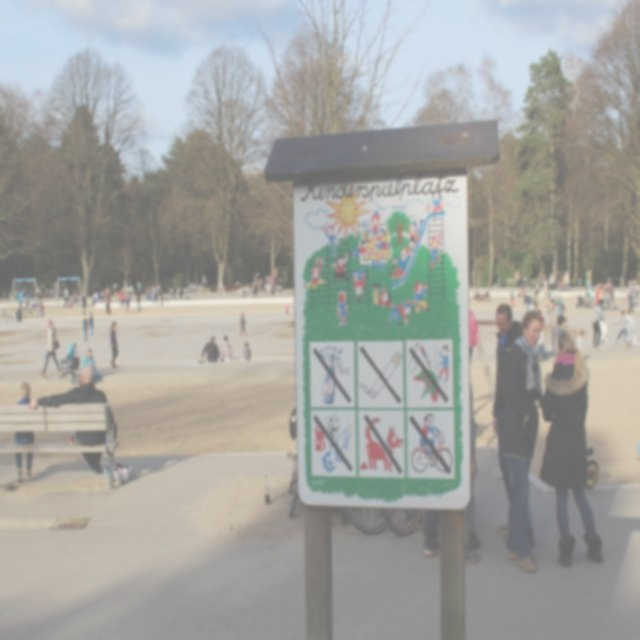pessoa: (303, 190, 446, 326), (538, 331, 605, 570), (501, 310, 544, 572), (27, 365, 115, 475), (492, 303, 523, 541), (464, 309, 482, 552), (504, 464, 536, 550), (13, 382, 36, 482), (38, 318, 63, 378), (418, 413, 443, 468), (422, 510, 441, 561), (81, 348, 102, 384), (590, 298, 604, 351), (548, 298, 560, 358), (437, 341, 451, 386), (200, 335, 220, 363), (614, 310, 628, 346), (110, 321, 120, 368), (325, 414, 341, 441), (536, 325, 546, 362), (625, 308, 634, 348), (220, 335, 232, 363), (460, 548, 480, 564), (598, 315, 608, 345), (594, 284, 604, 312), (607, 280, 616, 310), (557, 308, 568, 332), (238, 313, 248, 337), (627, 279, 634, 313), (586, 286, 596, 308), (556, 308, 568, 326), (598, 281, 605, 310), (82, 313, 89, 342), (536, 308, 545, 328), (242, 342, 251, 362), (51, 280, 60, 300), (576, 330, 584, 352), (585, 278, 593, 300), (524, 290, 532, 312), (81, 292, 88, 317), (104, 288, 110, 316), (88, 312, 94, 337), (604, 282, 610, 306), (477, 290, 490, 301), (200, 274, 207, 294), (105, 296, 112, 316), (151, 284, 157, 307), (64, 286, 70, 309), (556, 296, 564, 312), (564, 270, 570, 291), (18, 290, 24, 311), (558, 272, 565, 290), (576, 294, 584, 309), (549, 272, 555, 292), (514, 268, 520, 288), (190, 279, 198, 294), (530, 286, 536, 305), (634, 277, 639, 299), (15, 307, 22, 322), (124, 296, 130, 313), (256, 272, 261, 292), (584, 292, 590, 308), (586, 268, 592, 284), (252, 282, 258, 298), (136, 288, 140, 312), (509, 289, 514, 307), (555, 270, 559, 292), (158, 284, 162, 306), (270, 284, 276, 298), (22, 286, 28, 300), (112, 282, 118, 296), (544, 278, 548, 298), (535, 280, 540, 296), (172, 284, 177, 300), (119, 292, 124, 308), (539, 272, 544, 288), (624, 285, 628, 304), (246, 283, 251, 298), (179, 285, 184, 300), (520, 270, 524, 288), (62, 283, 66, 301), (40, 300, 44, 318), (252, 276, 259, 286), (145, 286, 150, 300), (93, 292, 99, 303), (76, 292, 81, 305), (155, 285, 159, 301), (532, 302, 538, 312), (516, 287, 522, 297), (218, 280, 223, 292), (68, 296, 73, 308), (285, 302, 289, 316), (40, 284, 44, 298), (74, 292, 78, 305), (553, 296, 558, 306), (521, 286, 525, 298), (270, 275, 274, 287), (258, 278, 262, 290), (150, 285, 153, 301), (130, 284, 134, 296), (36, 286, 40, 298), (138, 281, 142, 292), (546, 304, 550, 315), (548, 292, 555, 298), (474, 288, 478, 298), (242, 288, 246, 298), (266, 275, 270, 284), (98, 291, 101, 303), (26, 300, 29, 312), (531, 282, 535, 290), (126, 292, 130, 300), (164, 294, 168, 302), (92, 293, 95, 303), (148, 288, 150, 300), (544, 275, 548, 279), (632, 278, 634, 284), (254, 272, 256, 276)
